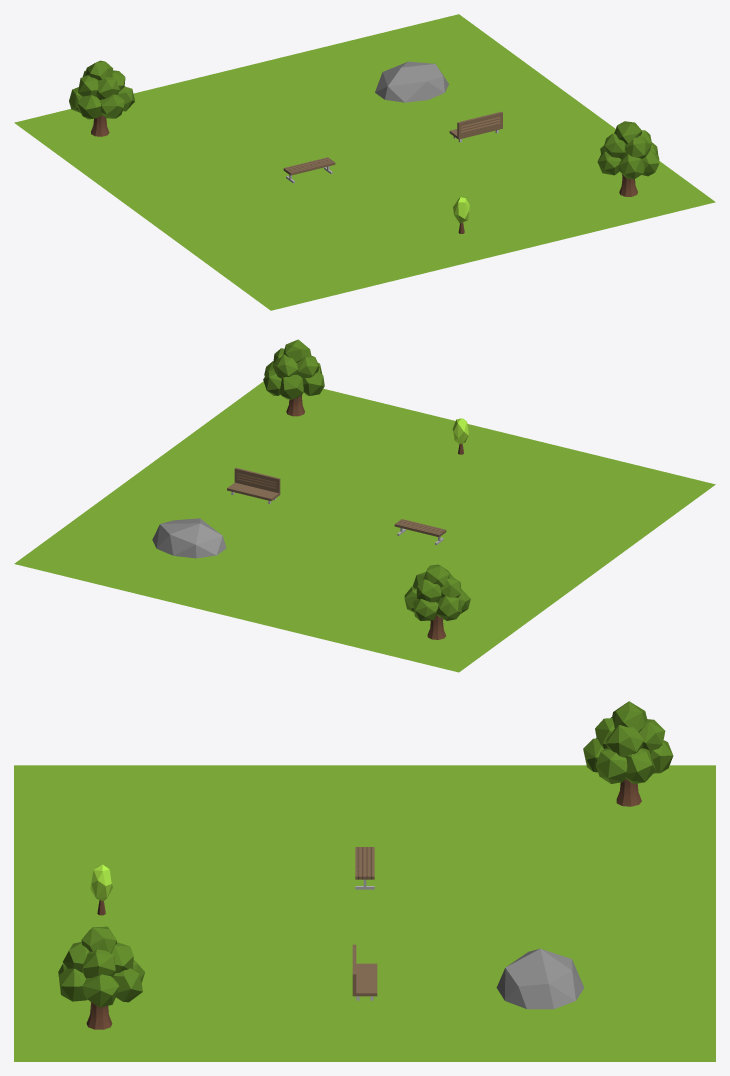
File: remix-park-corner.glb
3 renders of one model, top to bottom at view 1: azimuth 30°, elevation 25°; view 2: azimuth 150°, elevation 25°; view 3: azimuth 270°, elevation 25°, orthographic. The views are drawn at different scales.
Parts seen in each view (by area): view 1: Natures_Grass Tile_Plane.010, Natures_Big Tree_Mesh.008 (×2), Natures_Rock_Big_Mesh.001, Props_Bench_2_Cube.022, Props_Bench_1_Cube.023; view 2: Natures_Grass Tile_Plane.010, Natures_Big Tree_Mesh.008 (×2), Natures_Rock_Big_Mesh.001, Props_Bench_2_Cube.022, Props_Bench_1_Cube.023; view 3: Natures_Grass Tile_Plane.010, Natures_Big Tree_Mesh.008 (×2), Natures_Rock_Big_Mesh.001, Props_Bench_2_Cube.022, Props_Bench_1_Cube.023, Natures_Bush_01_Cylinder.
Boxes of the visible parts, x1=… form: Natures_Grass Tile_Plane.010: x1=14, y1=14, x2=715, y2=310; Natures_Big Tree_Mesh.008 (×2): x1=69, y1=60, x2=659, y2=196; Natures_Rock_Big_Mesh.001: x1=375, y1=61, x2=448, y2=102; Props_Bench_2_Cube.022: x1=449, y1=111, x2=502, y2=142; Props_Bench_1_Cube.023: x1=283, y1=157, x2=335, y2=183; Natures_Grass Tile_Plane.010: x1=14, y1=381, x2=715, y2=672; Natures_Big Tree_Mesh.008 (×2): x1=263, y1=339, x2=470, y2=639; Natures_Rock_Big_Mesh.001: x1=152, y1=518, x2=226, y2=558; Props_Bench_2_Cube.022: x1=227, y1=467, x2=280, y2=503; Props_Bench_1_Cube.023: x1=394, y1=519, x2=446, y2=544; Natures_Grass Tile_Plane.010: x1=14, y1=765, x2=715, y2=1061; Natures_Big Tree_Mesh.008 (×2): x1=58, y1=701, x2=673, y2=1029; Natures_Rock_Big_Mesh.001: x1=496, y1=948, x2=584, y2=1009; Props_Bench_2_Cube.022: x1=352, y1=944, x2=377, y2=1000; Props_Bench_1_Cube.023: x1=355, y1=847, x2=374, y2=889; Natures_Bush_01_Cylinder: x1=90, y1=864, x2=112, y2=915.
Bounding box in the file's own units: 40 × 6.12 × 40.
2 materials, 2 textured.
